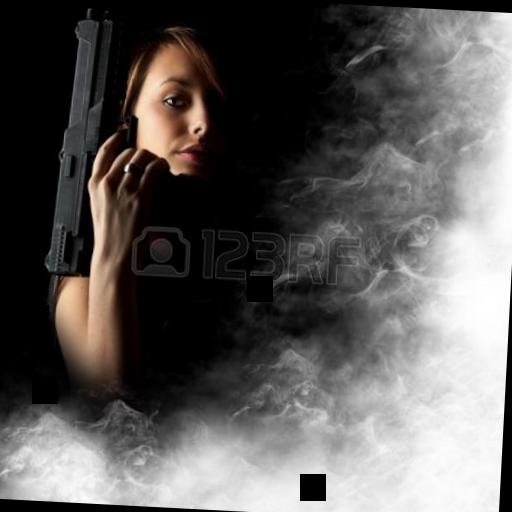Handgun: (41, 0, 189, 284)
